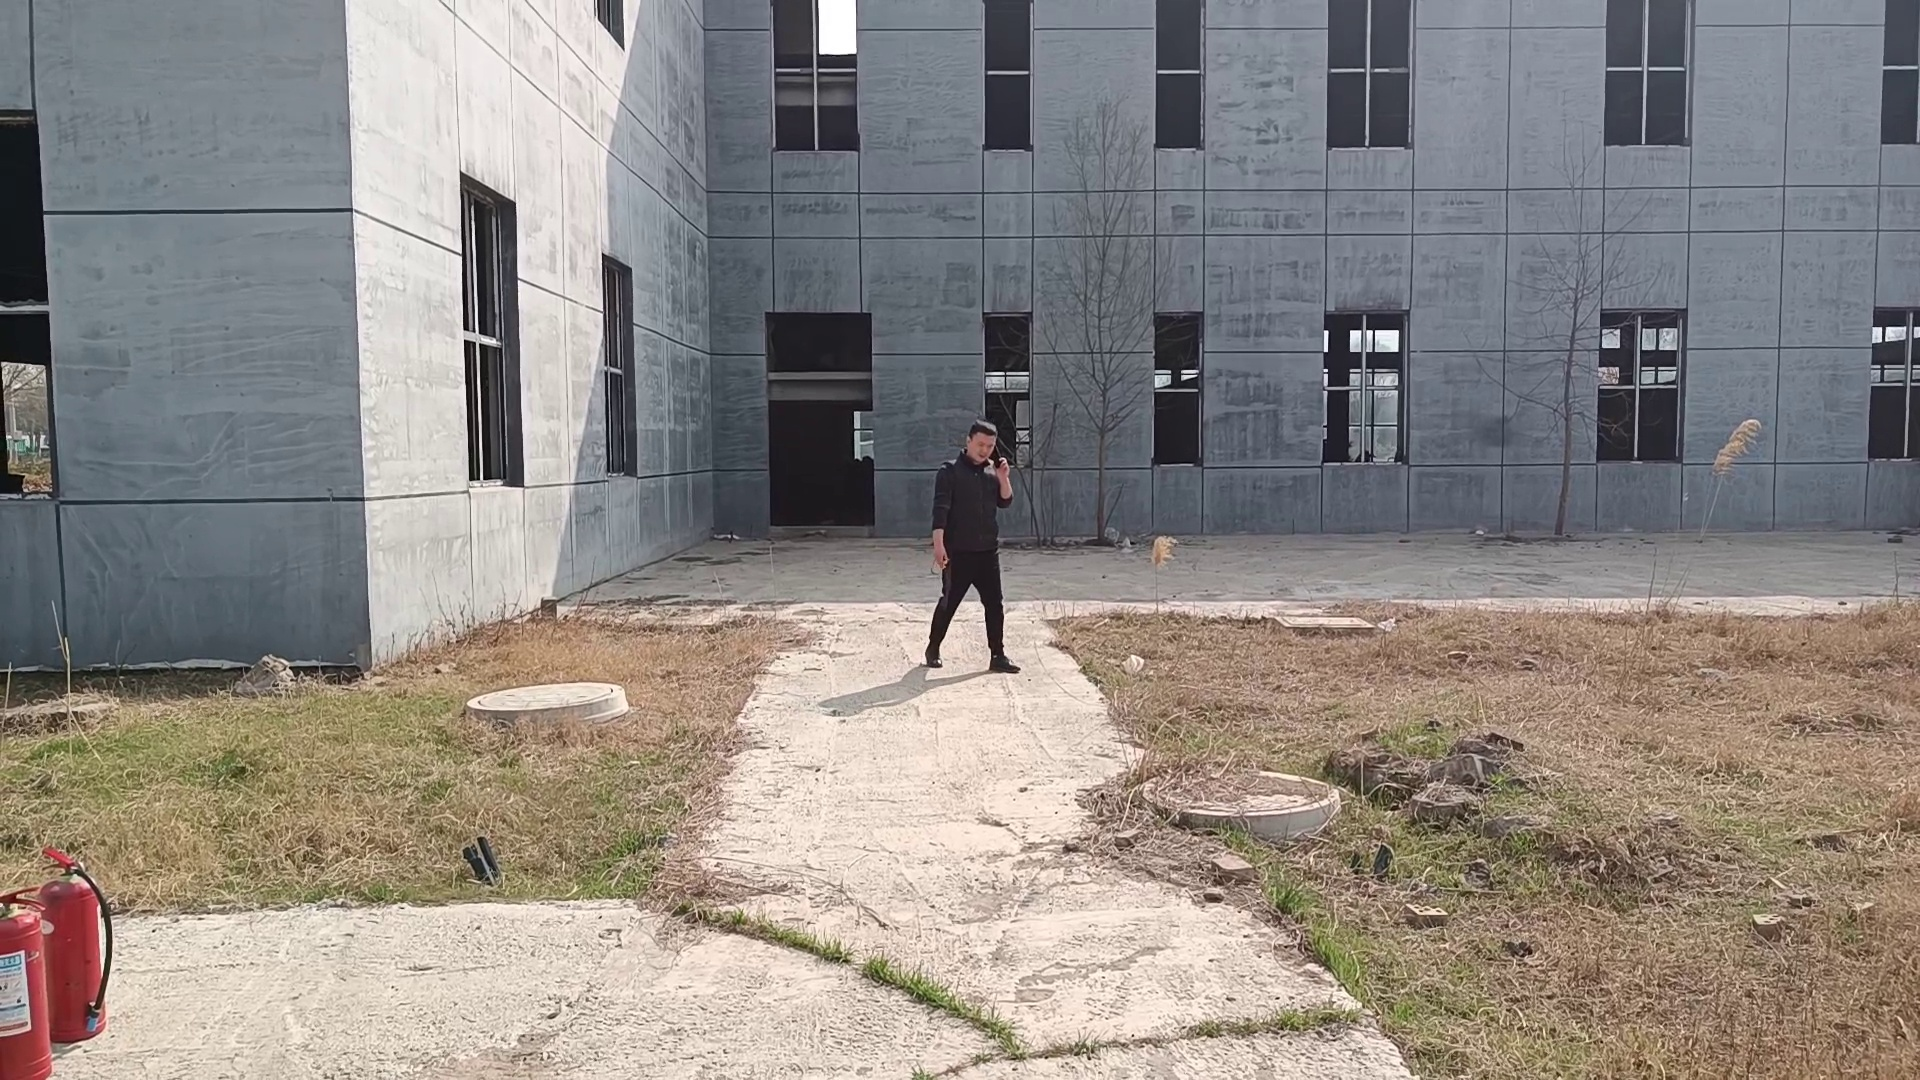phone: (956, 415, 1009, 473)
